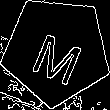M_NE: (26, 19, 87, 83)
